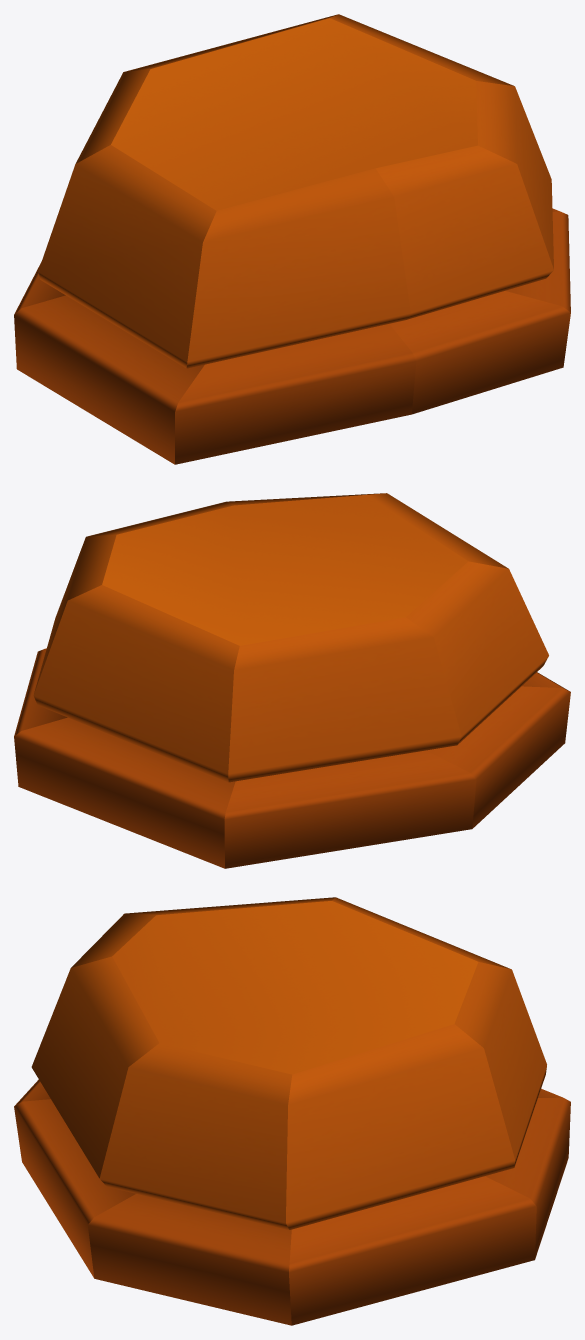
File: Desert_FlatRock02.fbx
The picture shows the model from 3 angles, top to bottom: view 1: azimuth 30°, elevation 25°; view 2: azimuth 150°, elevation 25°; view 3: azimuth 270°, elevation 25°; orthographic projection. The views are drawn at different scales.
Parts seen in each view (by area): view 1: Desert_FlatRock07:pCylinder1; view 2: Desert_FlatRock07:pCylinder1; view 3: Desert_FlatRock07:pCylinder1.
Part boxes in pixels (x1,y1,x2,y2): Desert_FlatRock07:pCylinder1: [14, 14, 570, 464]; Desert_FlatRock07:pCylinder1: [14, 493, 570, 868]; Desert_FlatRock07:pCylinder1: [14, 897, 570, 1325].
Bounding box in the file's own units: 4.46 × 2.21 × 4.12.
Materials: 1 (1 with a texture image).
